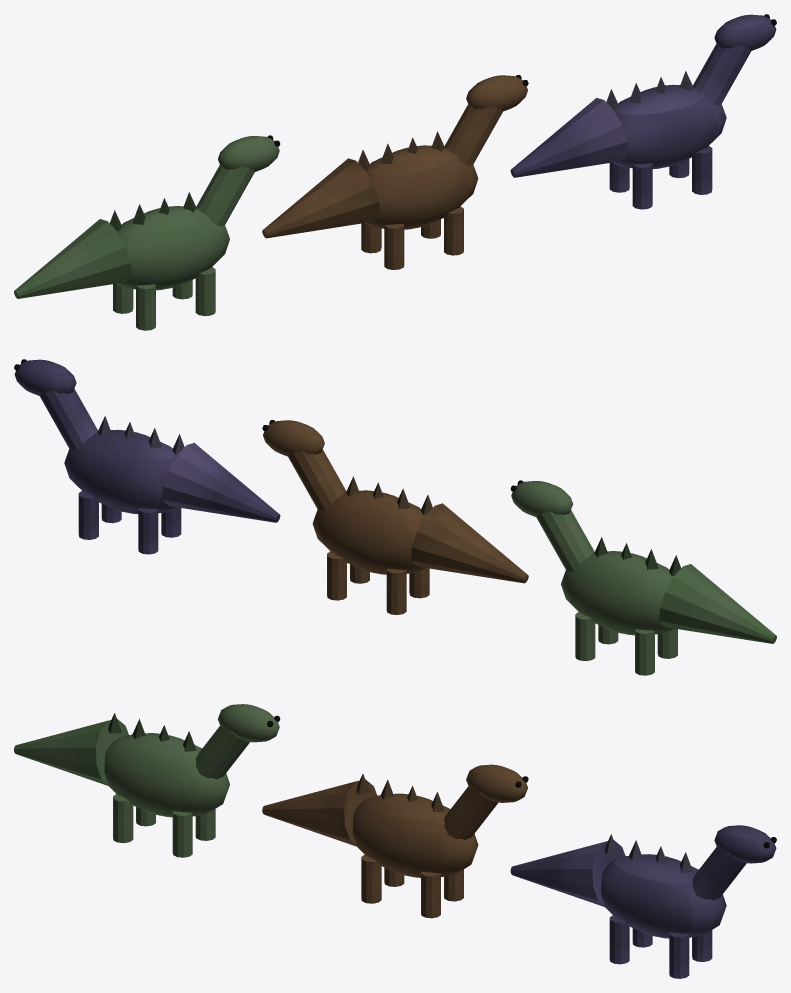
File: TY25_ToyDinosaur.glb
3 views of the same model, one above another, from view 1: azimuth 30°, elevation 25°; view 2: azimuth 150°, elevation 25°; view 3: azimuth 330°, elevation 25° (orthographic).
Parts seen in each view (by area): view 1: TY25_ToyDinosaur; view 2: TY25_ToyDinosaur; view 3: TY25_ToyDinosaur.
Boxes of the visible parts, <box> form: TY25_ToyDinosaur: <box>14,14,776,330</box>; TY25_ToyDinosaur: <box>14,359,776,675</box>; TY25_ToyDinosaur: <box>14,704,776,978</box>.
Bounding box in the file's own units: 0.4 × 0.0764 × 0.0335.
Materials: 7 (7 with a texture image).
